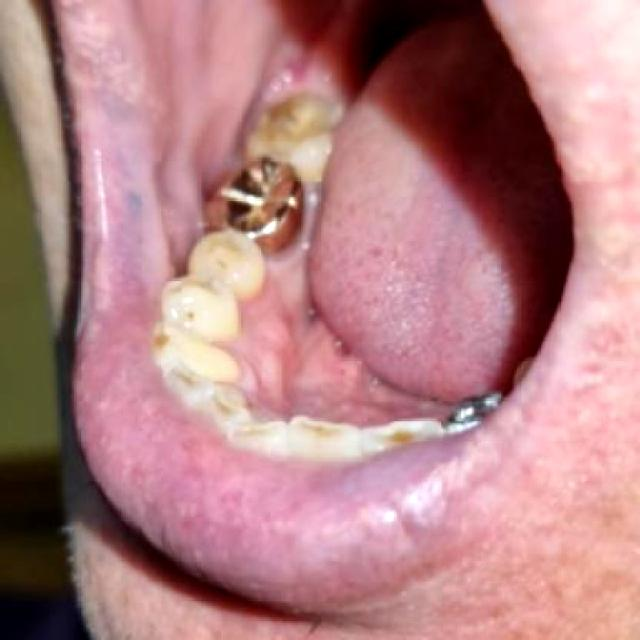Plaque: (180, 300, 206, 326), (212, 257, 234, 272)
